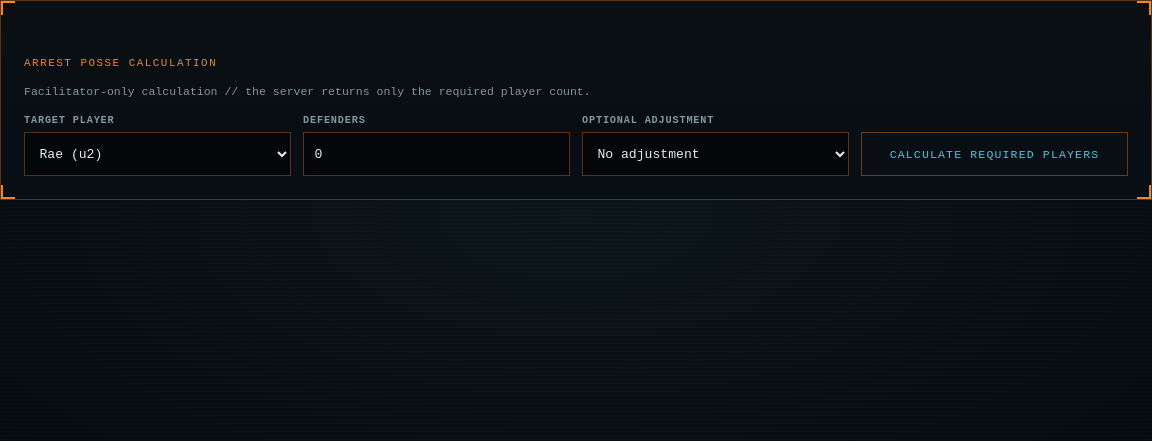
submits only the selected target, defenders, optional adjustment and current projection revision
Replace the text in the number field labelled "Defenders" with "2" at [436, 154], box [303, 132, 570, 176]
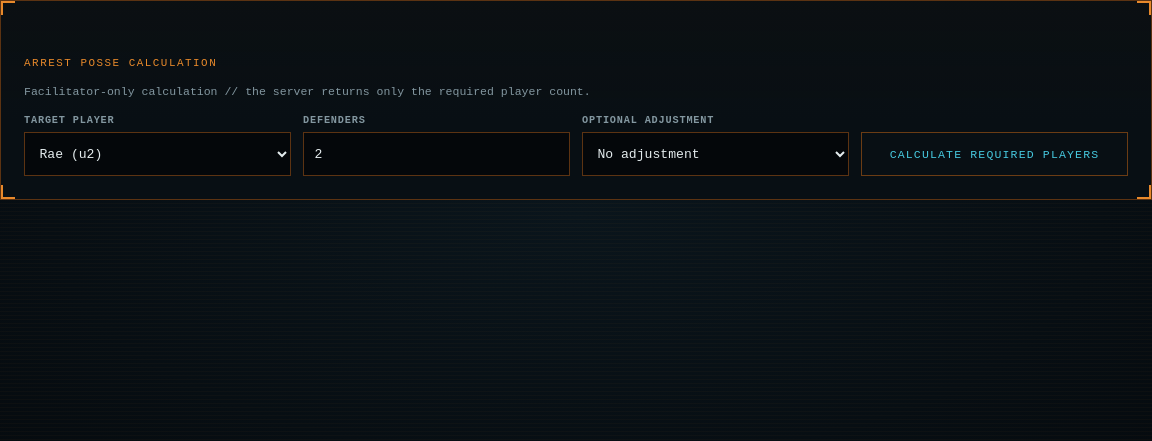
Select "Add 1" in the dropdown labelled "Optional adjustment" at [716, 154], box [582, 132, 849, 176]
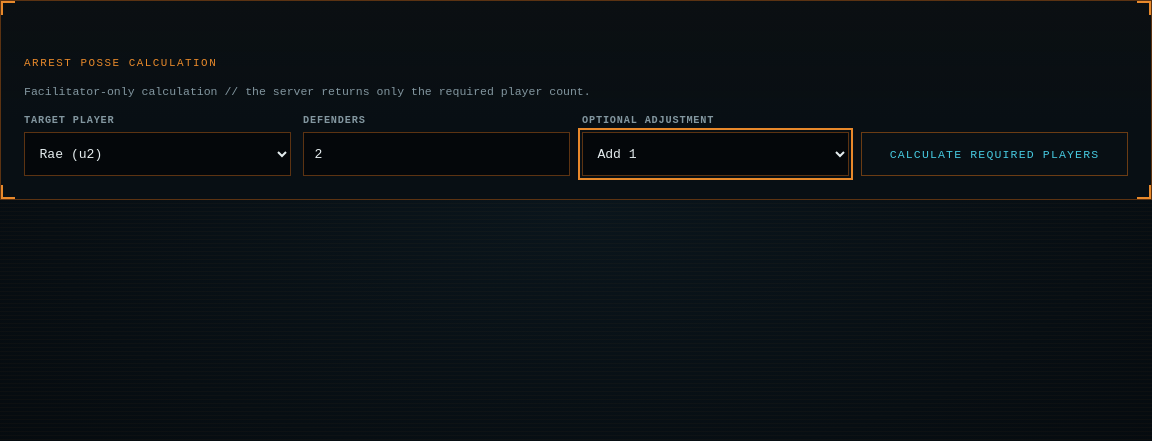
Click the button "Calculate required players".
click(994, 154)  # box [861, 132, 1128, 176]
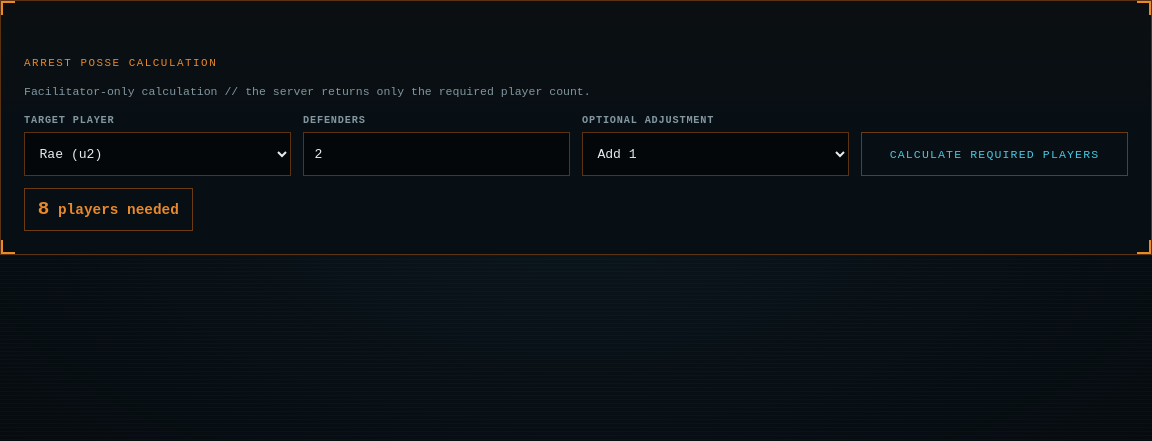
Check: the message reads "8 players needed", box [24, 188, 193, 231]
